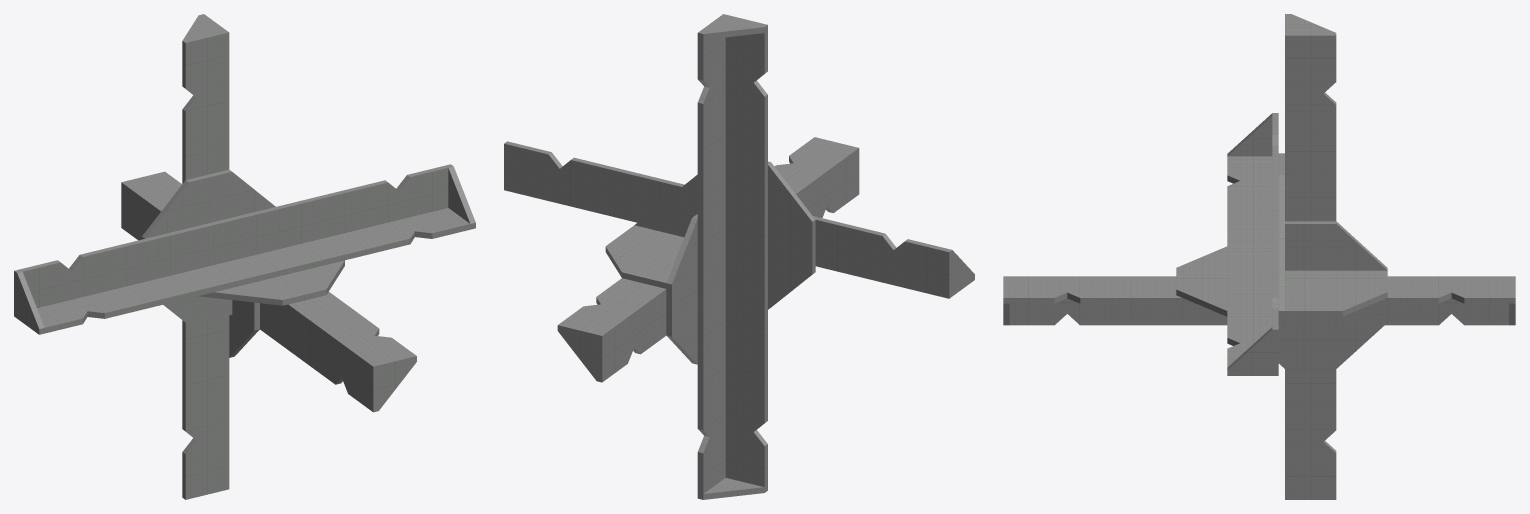
File: hedgehog.fbx
The picture shows the model from 3 angles, left to right: view 1: azimuth 30°, elevation 25°; view 2: azimuth 150°, elevation 25°; view 3: azimuth 270°, elevation 25°; orthographic projection.
Visible parts, largest first — view 1: graygrid Mesh (1); view 2: graygrid Mesh (1); view 3: graygrid Mesh (1).
Boxes of the visible parts, x1,y1,x2,y2 form: graygrid Mesh (1): (14,14,475,499); graygrid Mesh (1): (504,14,974,499); graygrid Mesh (1): (1003,14,1515,499).
Size of what is drawn, in the model's own units: 10 by 10 by 10.
